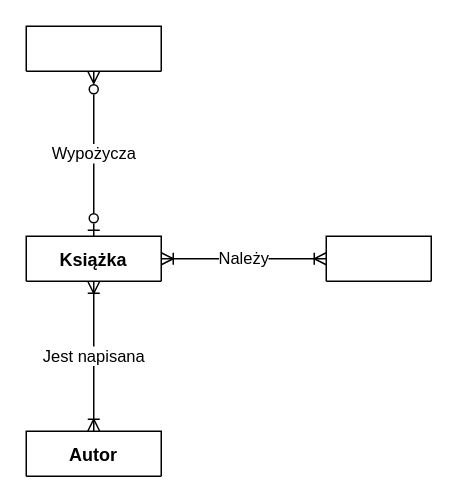
Some shapes in this 458 by 503 pixel diagram are drawn without their labels. The centre of each missing label's shape, as x and y in pixels:
"Kategoria" belongs at point 378,258.
"Użytkownik" belongs at point 93,48.
